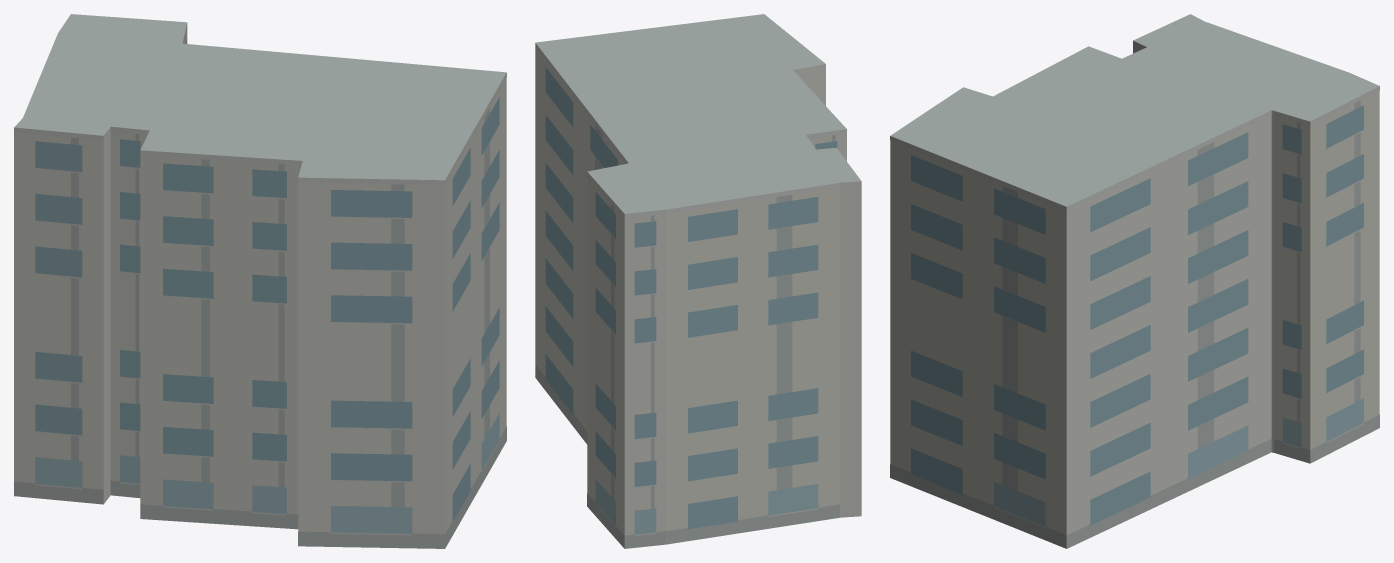
Rendered from survey-upis-32672721.glb.
3 renders of one model, left to right at view 1: azimuth 30°, elevation 25°; view 2: azimuth 150°, elevation 25°; view 3: azimuth 270°, elevation 25°, orthographic. The views are drawn at different scales.
Parts seen in each view (by area): view 1: survey-upis-32672721.tmp; view 2: survey-upis-32672721.tmp; view 3: survey-upis-32672721.tmp.
Part boxes in pixels (x1,y1,x2,y2): survey-upis-32672721.tmp: (14, 14, 506, 548); survey-upis-32672721.tmp: (535, 14, 861, 548); survey-upis-32672721.tmp: (890, 14, 1379, 548).
Bounding box in the file's own units: 21.95 × 18.15 × 23.56.
